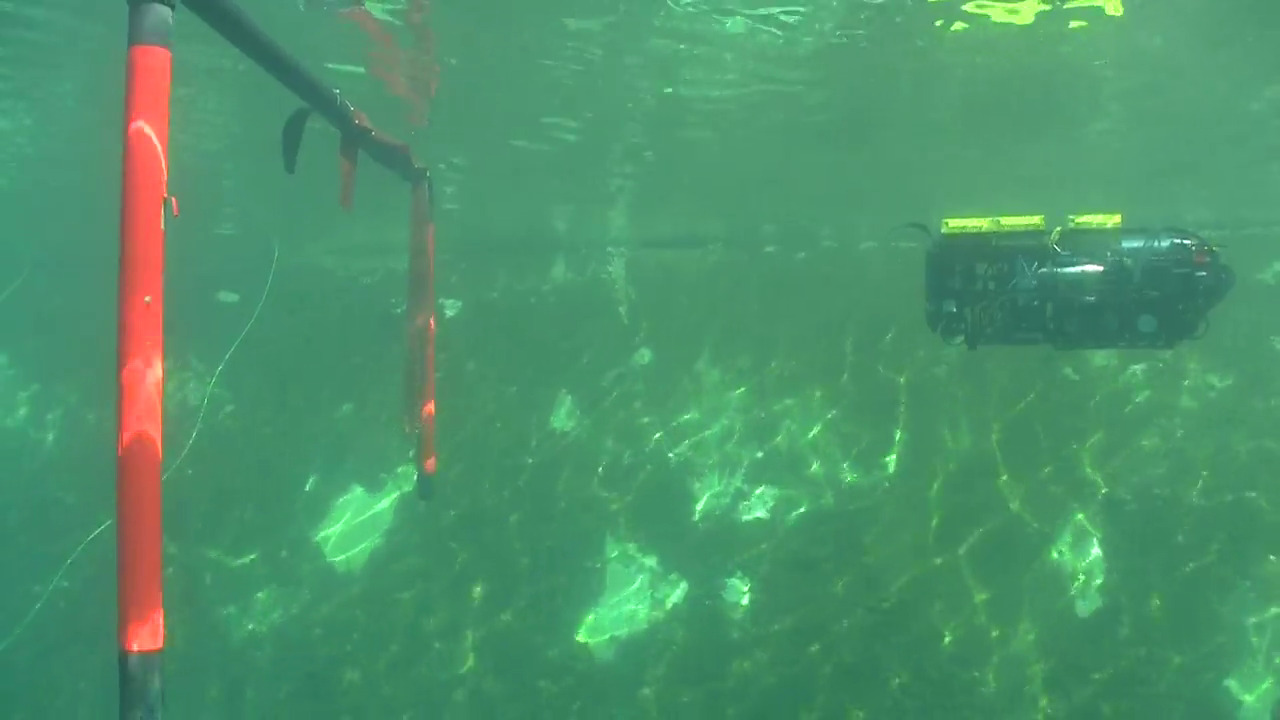gate: (95, 1, 447, 720)
